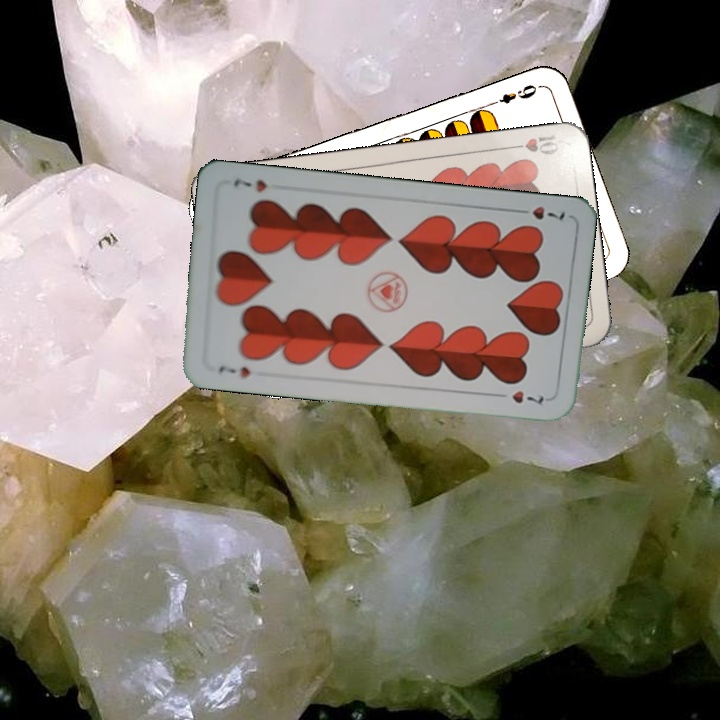E9: (484, 80, 542, 109)
H10: (503, 131, 561, 158)
H7: (511, 202, 567, 223), (214, 361, 253, 381)
